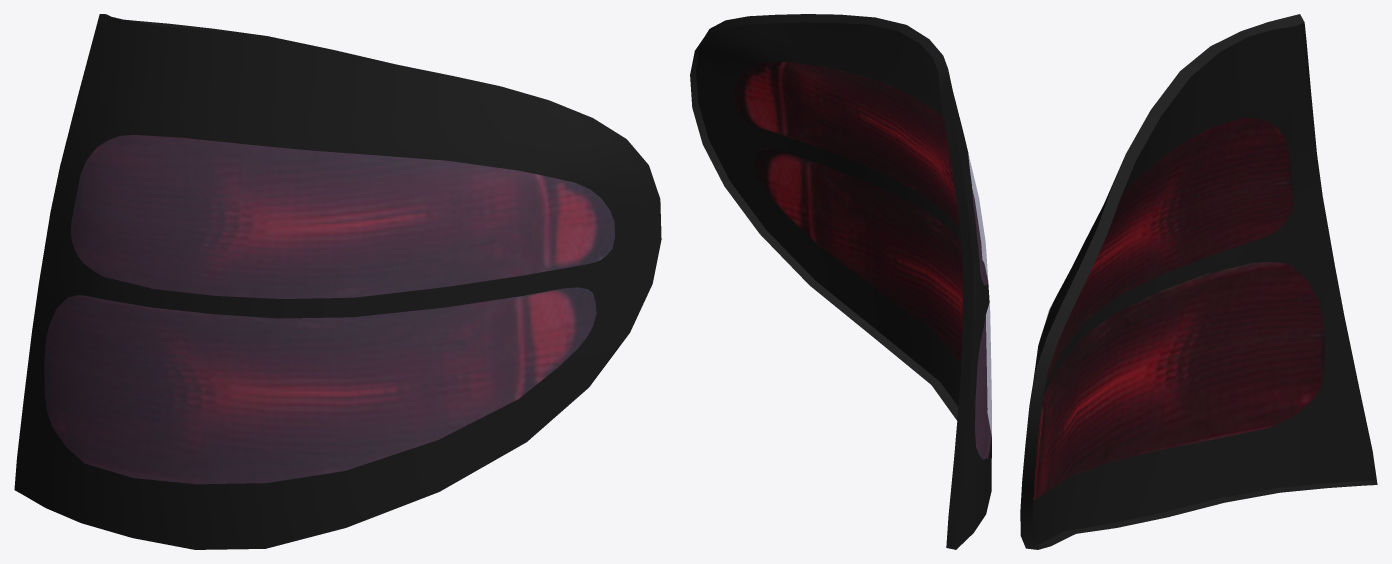
3 renders of one model, left to right at view 1: azimuth 30°, elevation 25°; view 2: azimuth 150°, elevation 25°; view 3: azimuth 270°, elevation 25°, orthographic. The views are drawn at different scales.
Parts seen in each view (by area): view 1: P353_20_541C_R_1_N_P353_20_541C_R, P353_20_541C_R_P353_20_541C_R_2_D, P353_20_541C_R_P353_20_541C_R_3_DTaSI, P353_20_541C_R_P353_20_541C_R_4_DTaSI; view 2: P353_20_541C_R_P353_20_541C_R_2_D, P353_20_541C_R_1_N_P353_20_541C_R, P353_20_541C_R_P353_20_541C_R_3_DTaSI, P353_20_541C_R_P353_20_541C_R_4_DTaSI; view 3: P353_20_541C_R_1_N_P353_20_541C_R, P353_20_541C_R_P353_20_541C_R_2_D.
Boxes of the visible parts, x1=… form: P353_20_541C_R_1_N_P353_20_541C_R: x1=44, y1=134, x2=615, y2=484; P353_20_541C_R_P353_20_541C_R_2_D: x1=14, y1=14, x2=661, y2=549; P353_20_541C_R_P353_20_541C_R_3_DTaSI: x1=44, y1=287, x2=596, y2=483; P353_20_541C_R_P353_20_541C_R_4_DTaSI: x1=71, y1=135, x2=614, y2=298; P353_20_541C_R_P353_20_541C_R_2_D: x1=690, y1=14, x2=991, y2=549; P353_20_541C_R_1_N_P353_20_541C_R: x1=734, y1=62, x2=991, y2=459; P353_20_541C_R_P353_20_541C_R_3_DTaSI: x1=975, y1=303, x2=991, y2=459; P353_20_541C_R_P353_20_541C_R_4_DTaSI: x1=968, y1=154, x2=988, y2=285; P353_20_541C_R_1_N_P353_20_541C_R: x1=1033, y1=117, x2=1324, y2=500; P353_20_541C_R_P353_20_541C_R_2_D: x1=1020, y1=14, x2=1377, y2=549.
Bounding box in the file's own units: 21.89 × 21.88 × 14.46.
